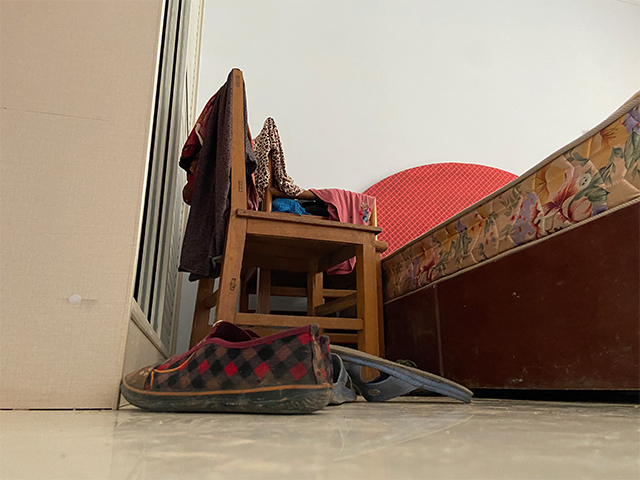bed: (371, 89, 640, 396)
slippers: (327, 343, 475, 404)
stool: (188, 67, 382, 383)
